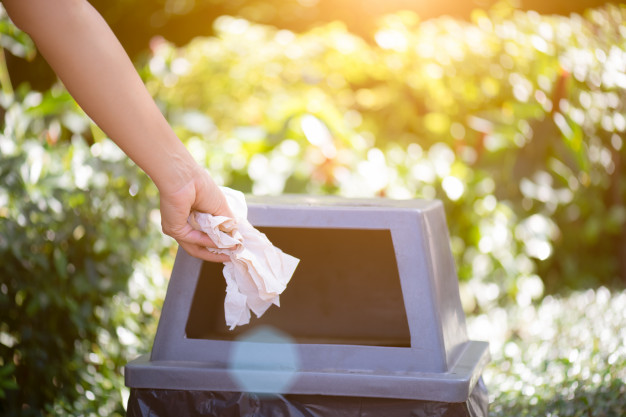Tissue: (217, 262, 303, 330)
